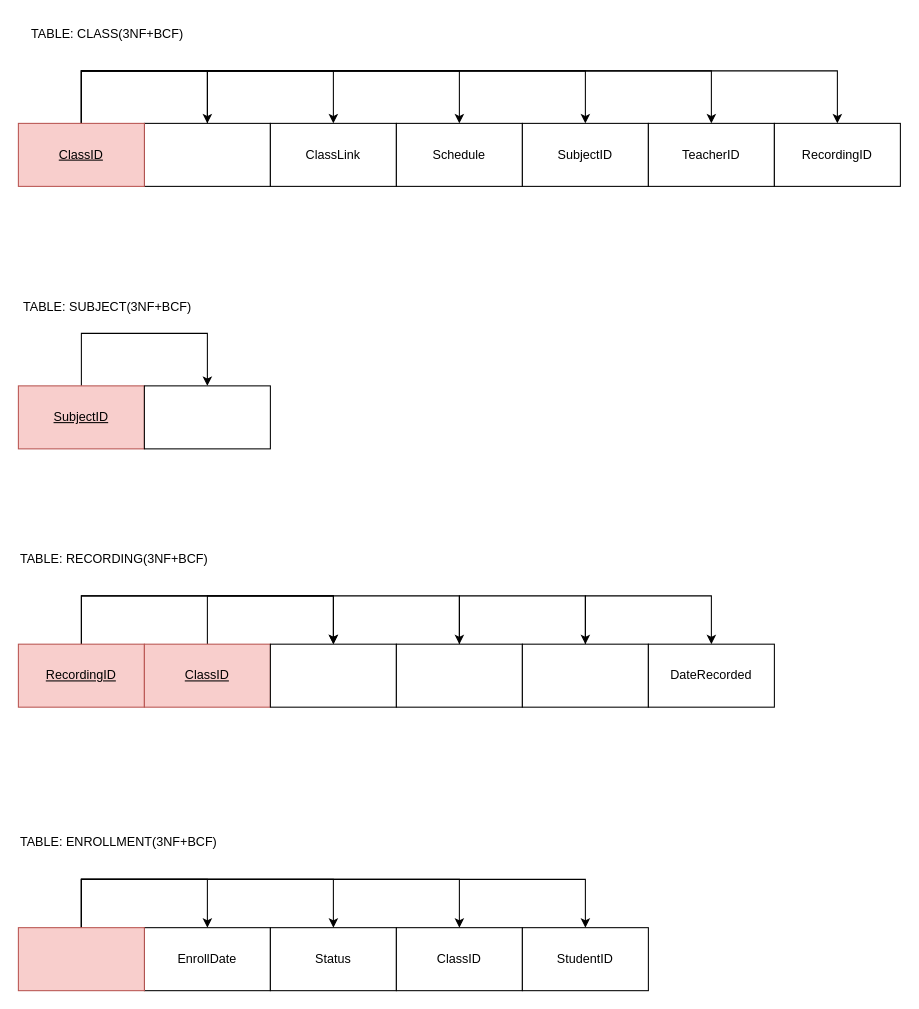
Some shapes in this 919 by 1009 pixel diagram are drawn without their labels. The centre of each missing label's shape, as x and y in pixels:
"ClassName" goes at point 206,154.
"Description" goes at point 458,675.
"EnrollmentID" goes at point 80,959.
"SubjectName" goes at point 206,417.
"Title" goes at point 332,675.
"VideoURL" goes at point 584,675.
